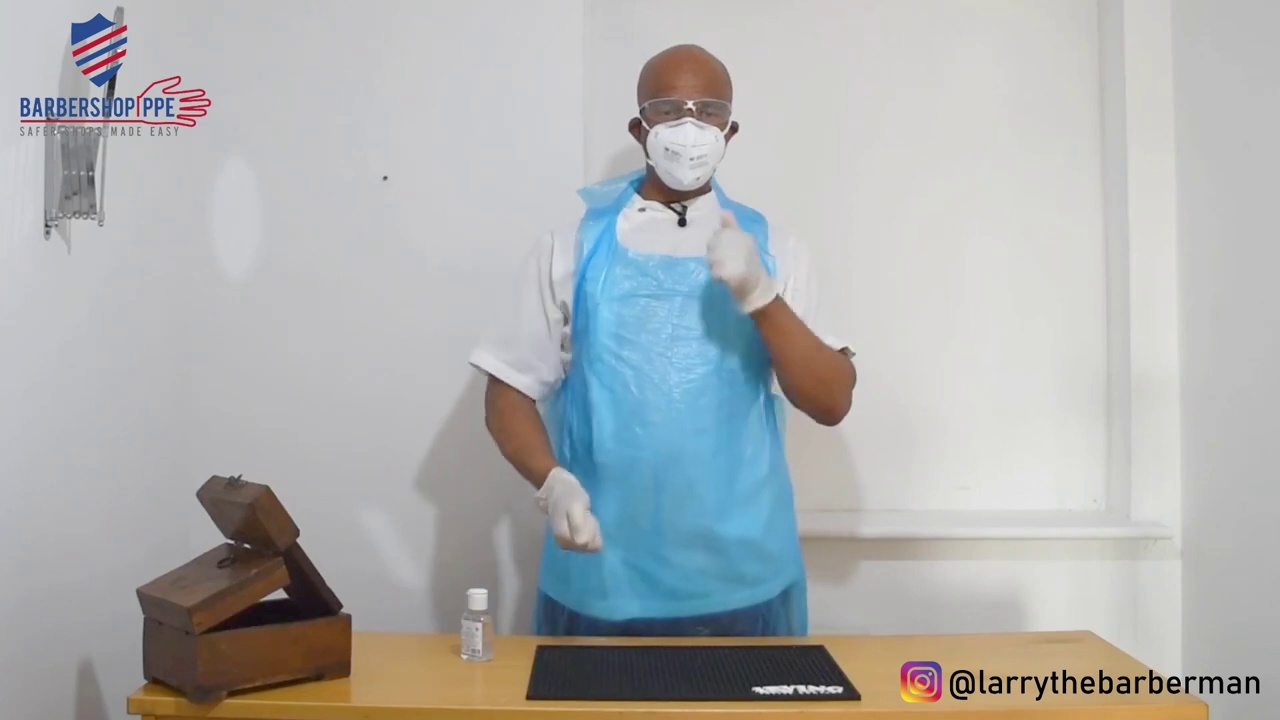Apron: (561, 170, 783, 641)
Glove: (705, 197, 793, 308), (534, 463, 615, 552)
Mask: (624, 119, 733, 190)
No_Hairnet: (629, 41, 739, 97)
